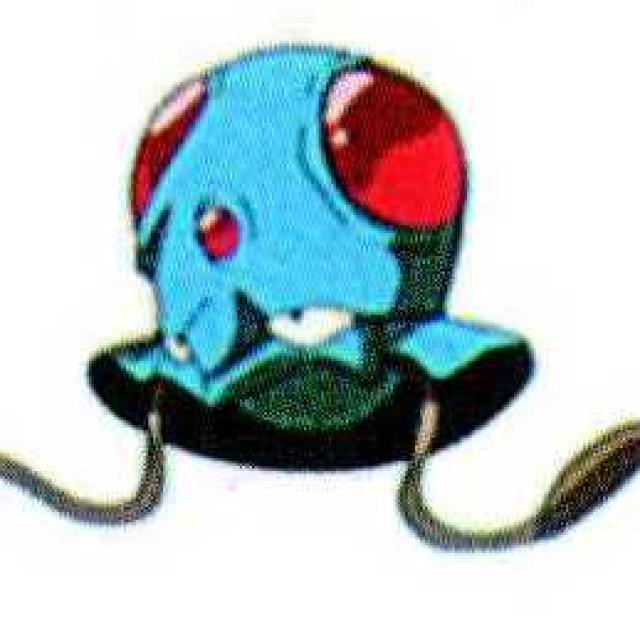Tentacool: (97, 50, 541, 534)
